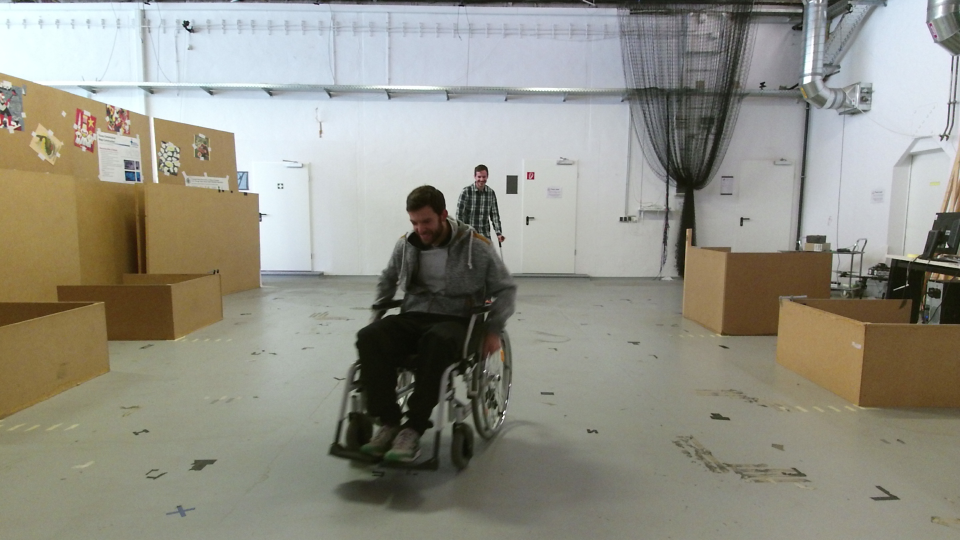wheelchair: (319, 182, 528, 479)
